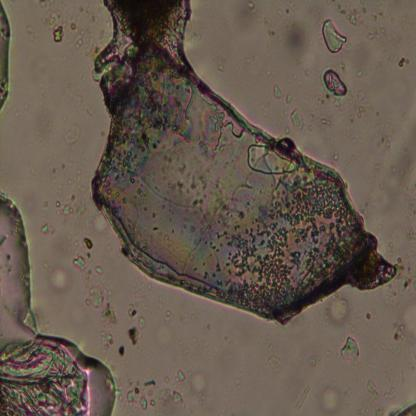Air bubble: (0, 192, 119, 416), (0, 2, 12, 114), (322, 66, 350, 98)
Background material: (72, 237, 118, 360), (102, 1, 196, 48), (118, 372, 192, 412), (355, 226, 394, 295), (375, 147, 416, 204), (57, 171, 86, 232), (384, 306, 416, 352), (392, 241, 416, 295), (340, 82, 366, 128), (282, 18, 309, 62), (124, 300, 146, 351), (230, 1, 260, 35), (46, 260, 74, 295), (367, 378, 394, 414), (321, 19, 347, 55), (154, 300, 174, 342), (366, 10, 392, 41), (66, 23, 91, 54), (326, 294, 350, 326), (316, 383, 341, 413), (38, 2, 67, 26), (340, 336, 362, 366), (191, 373, 213, 401), (341, 4, 364, 27), (373, 127, 396, 148), (294, 385, 312, 409), (266, 354, 286, 375), (289, 108, 306, 131), (391, 401, 416, 416), (65, 124, 81, 145), (302, 352, 319, 370), (52, 24, 64, 44), (260, 21, 276, 36), (320, 114, 334, 130), (178, 342, 190, 360), (397, 56, 410, 70), (39, 222, 52, 234), (273, 85, 282, 100), (332, 146, 338, 166), (116, 344, 125, 357), (364, 311, 371, 320)
Fragment: (92, 34, 368, 326)
